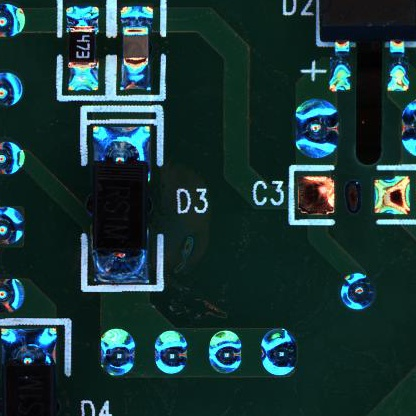spot: (293, 98, 341, 160), (97, 326, 137, 379), (259, 327, 300, 378), (206, 328, 243, 376), (154, 330, 190, 376), (339, 272, 376, 311)
